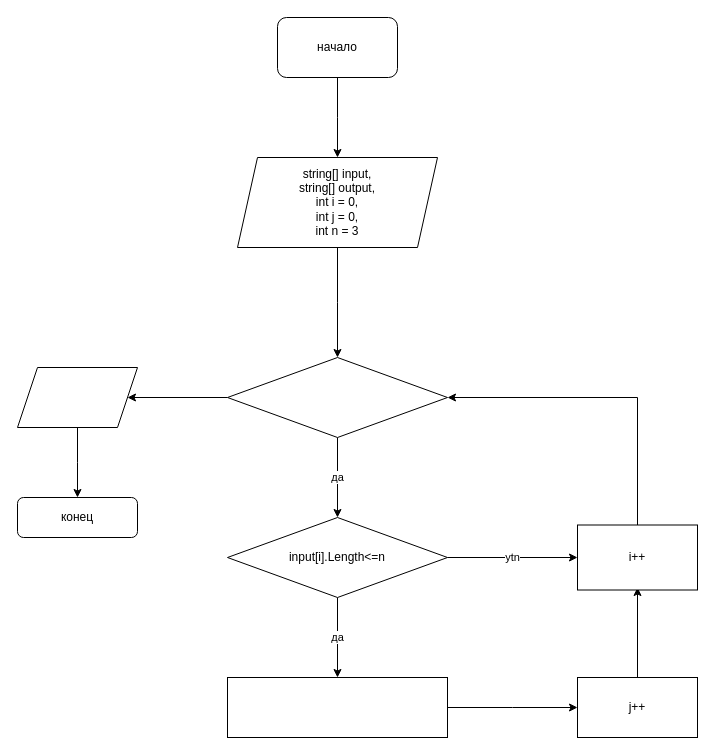
The diagram is 715 pixels wide and 755 high, and some of its shapes have lost their labels. Here are the shapes that lost their labels. From the top down, the centre of each, then its label:
At (x=77, y=397): "output".
At (x=337, y=397): "i < input.Length".
At (x=337, y=707): "output[j] = input[i]".
